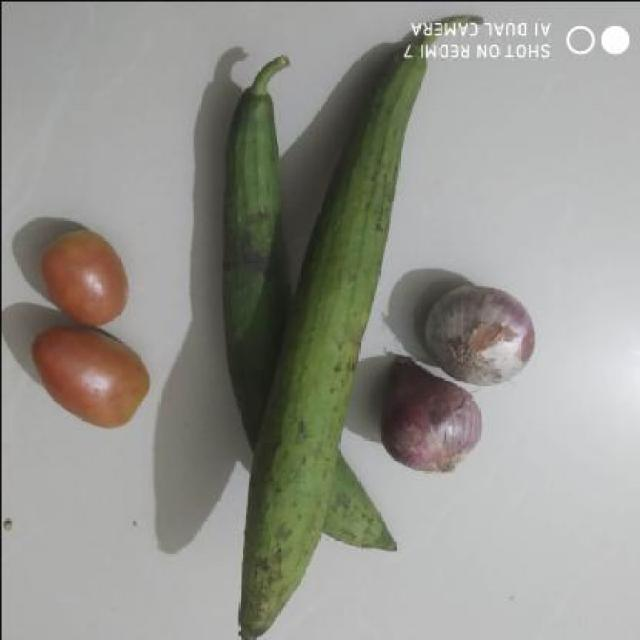onion: (416, 267, 535, 395), (366, 362, 480, 476)
tomato: (22, 324, 144, 438), (32, 229, 136, 336)
